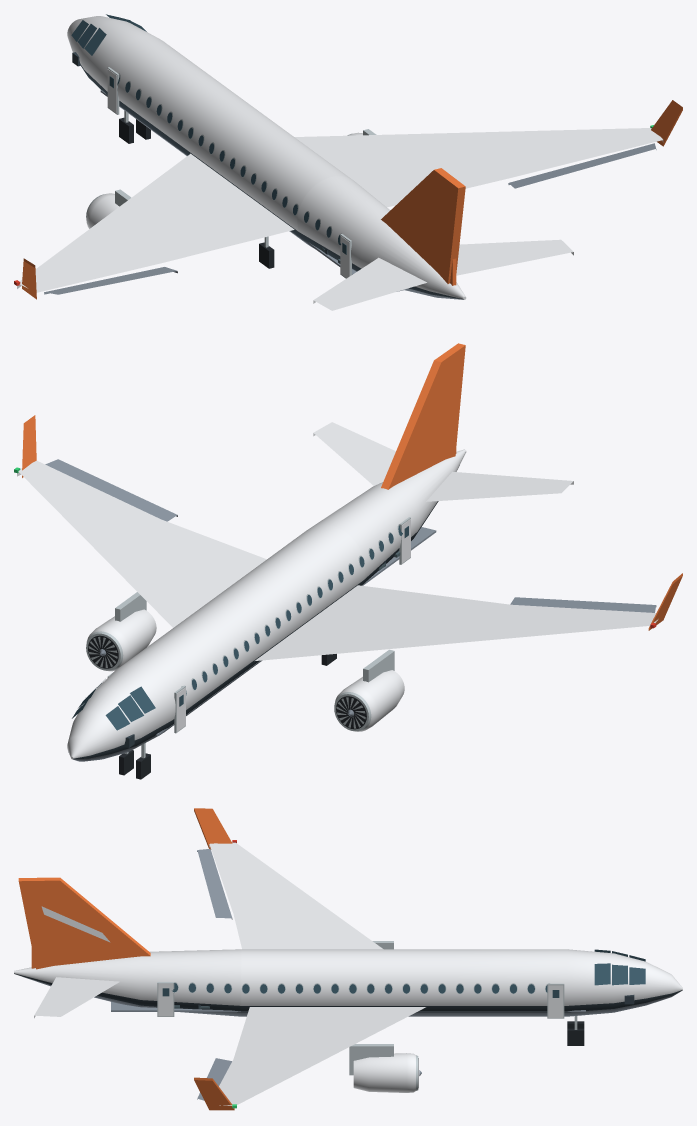
File: stratus.glb
3 renders of one model, top to bottom at view 1: azimuth 30°, elevation 25°; view 2: azimuth 150°, elevation 25°; view 3: azimuth 270°, elevation 25°, orthographic. The views are drawn at different scales.
Parts seen in each view (by area): view 1: wing_l, wing_r, body_mid, body_front, body_aft, tail, elevator, cabin_windows, aileron_r, doors, gear, engine_l (+2 smaller); view 2: wing_l, wing_r, body_front, body_mid, body_aft, tail, elevator, engine_l, engine_r, aileron_r, cabin_windows, aileron_l (+3 smaller); view 3: body_mid, body_front, wing_r, wing_l, body_aft, tail, engine_r, elevator, cabin_windows, doors, windshield, aileron_l (+2 smaller).
Boxes of the visible parts, bbox=[...] form: wing_l: bbox=[14, 153, 294, 299]; wing_r: bbox=[294, 100, 682, 207]; body_mid: bbox=[171, 84, 353, 242]; body_front: bbox=[67, 16, 226, 151]; body_aft: bbox=[297, 176, 466, 299]; tail: bbox=[381, 168, 465, 283]; elevator: bbox=[313, 239, 573, 310]; cabin_windows: bbox=[117, 73, 341, 245]; aileron_r: bbox=[508, 143, 656, 188]; doors: bbox=[107, 67, 351, 278]; gear: bbox=[119, 110, 274, 268]; engine_l: bbox=[86, 189, 131, 228]; wing_l: bbox=[255, 573, 682, 660]; wing_r: bbox=[14, 415, 266, 627]; body_front: bbox=[67, 616, 239, 761]; body_mid: bbox=[185, 524, 365, 683]; body_aft: bbox=[312, 449, 466, 585]; tail: bbox=[381, 343, 465, 489]; elevator: bbox=[313, 422, 573, 501]; engine_l: bbox=[334, 649, 404, 731]; engine_r: bbox=[86, 592, 156, 671]; aileron_r: bbox=[45, 459, 177, 521]; cabin_windows: bbox=[181, 524, 402, 695]; aileron_l: bbox=[510, 597, 656, 612]; body_mid: bbox=[241, 949, 455, 1016]; body_front: bbox=[455, 949, 682, 1016]; wing_r: bbox=[194, 1007, 425, 1110]; wing_l: bbox=[194, 808, 383, 949]; body_aft: bbox=[14, 949, 241, 1016]; tail: bbox=[18, 877, 150, 969]; engine_r: bbox=[349, 1044, 421, 1092]; elevator: bbox=[34, 977, 119, 1018]; cabin_windows: bbox=[172, 982, 549, 994]; doors: bbox=[157, 982, 564, 1018]; windshield: bbox=[594, 949, 645, 985]; aileron_l: bbox=[197, 848, 232, 919].
Bounding box in the file's own units: 29.58 × 8.29 × 31.
